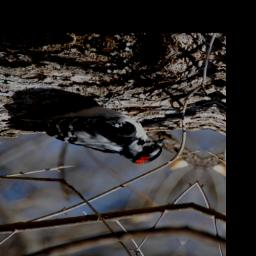Woodpecker: (0, 94, 176, 170)
